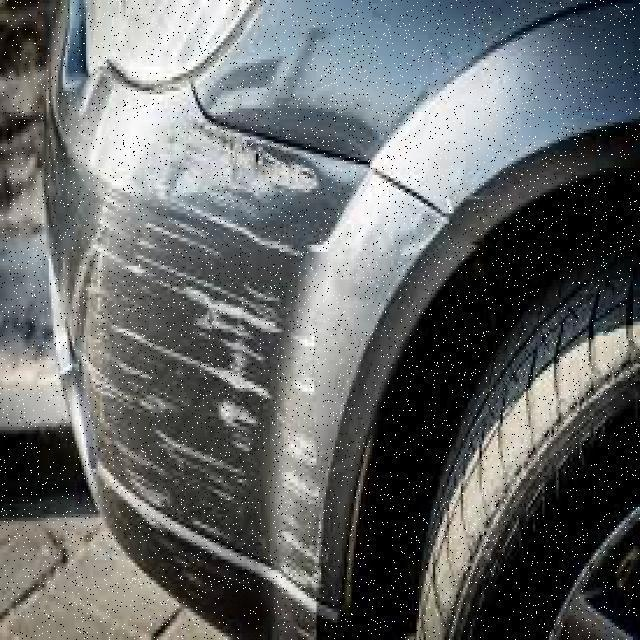front-bumper-dent: (30, 136, 442, 636)
